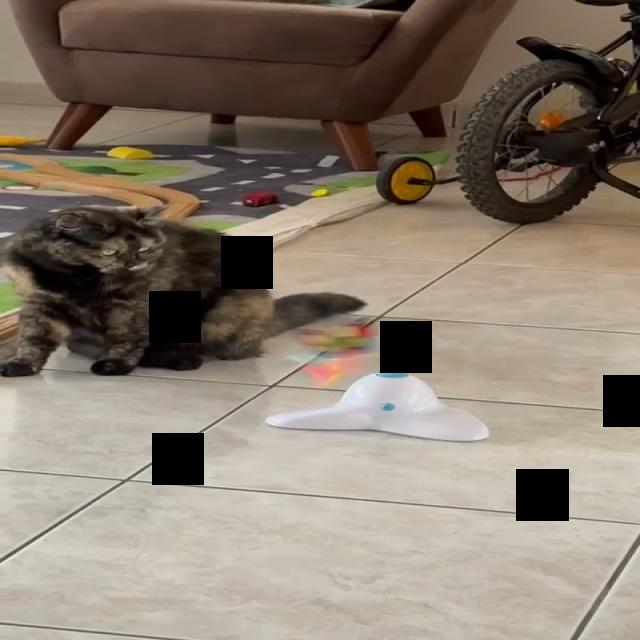authorized: (0, 202, 367, 377)
